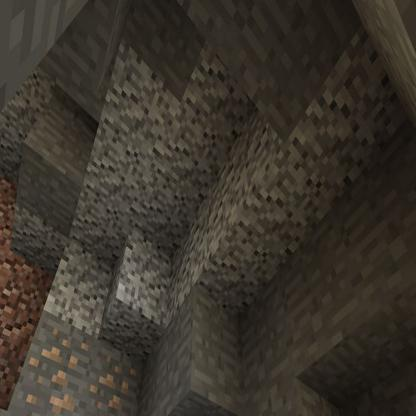Igneous_Diorite: (209, 11, 358, 133), (7, 80, 100, 220), (179, 284, 275, 405), (221, 143, 298, 279), (98, 244, 172, 346), (118, 10, 202, 93)
